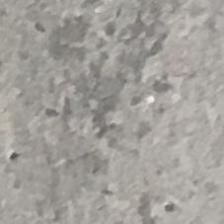Non_Crack: (6, 8, 214, 218)
